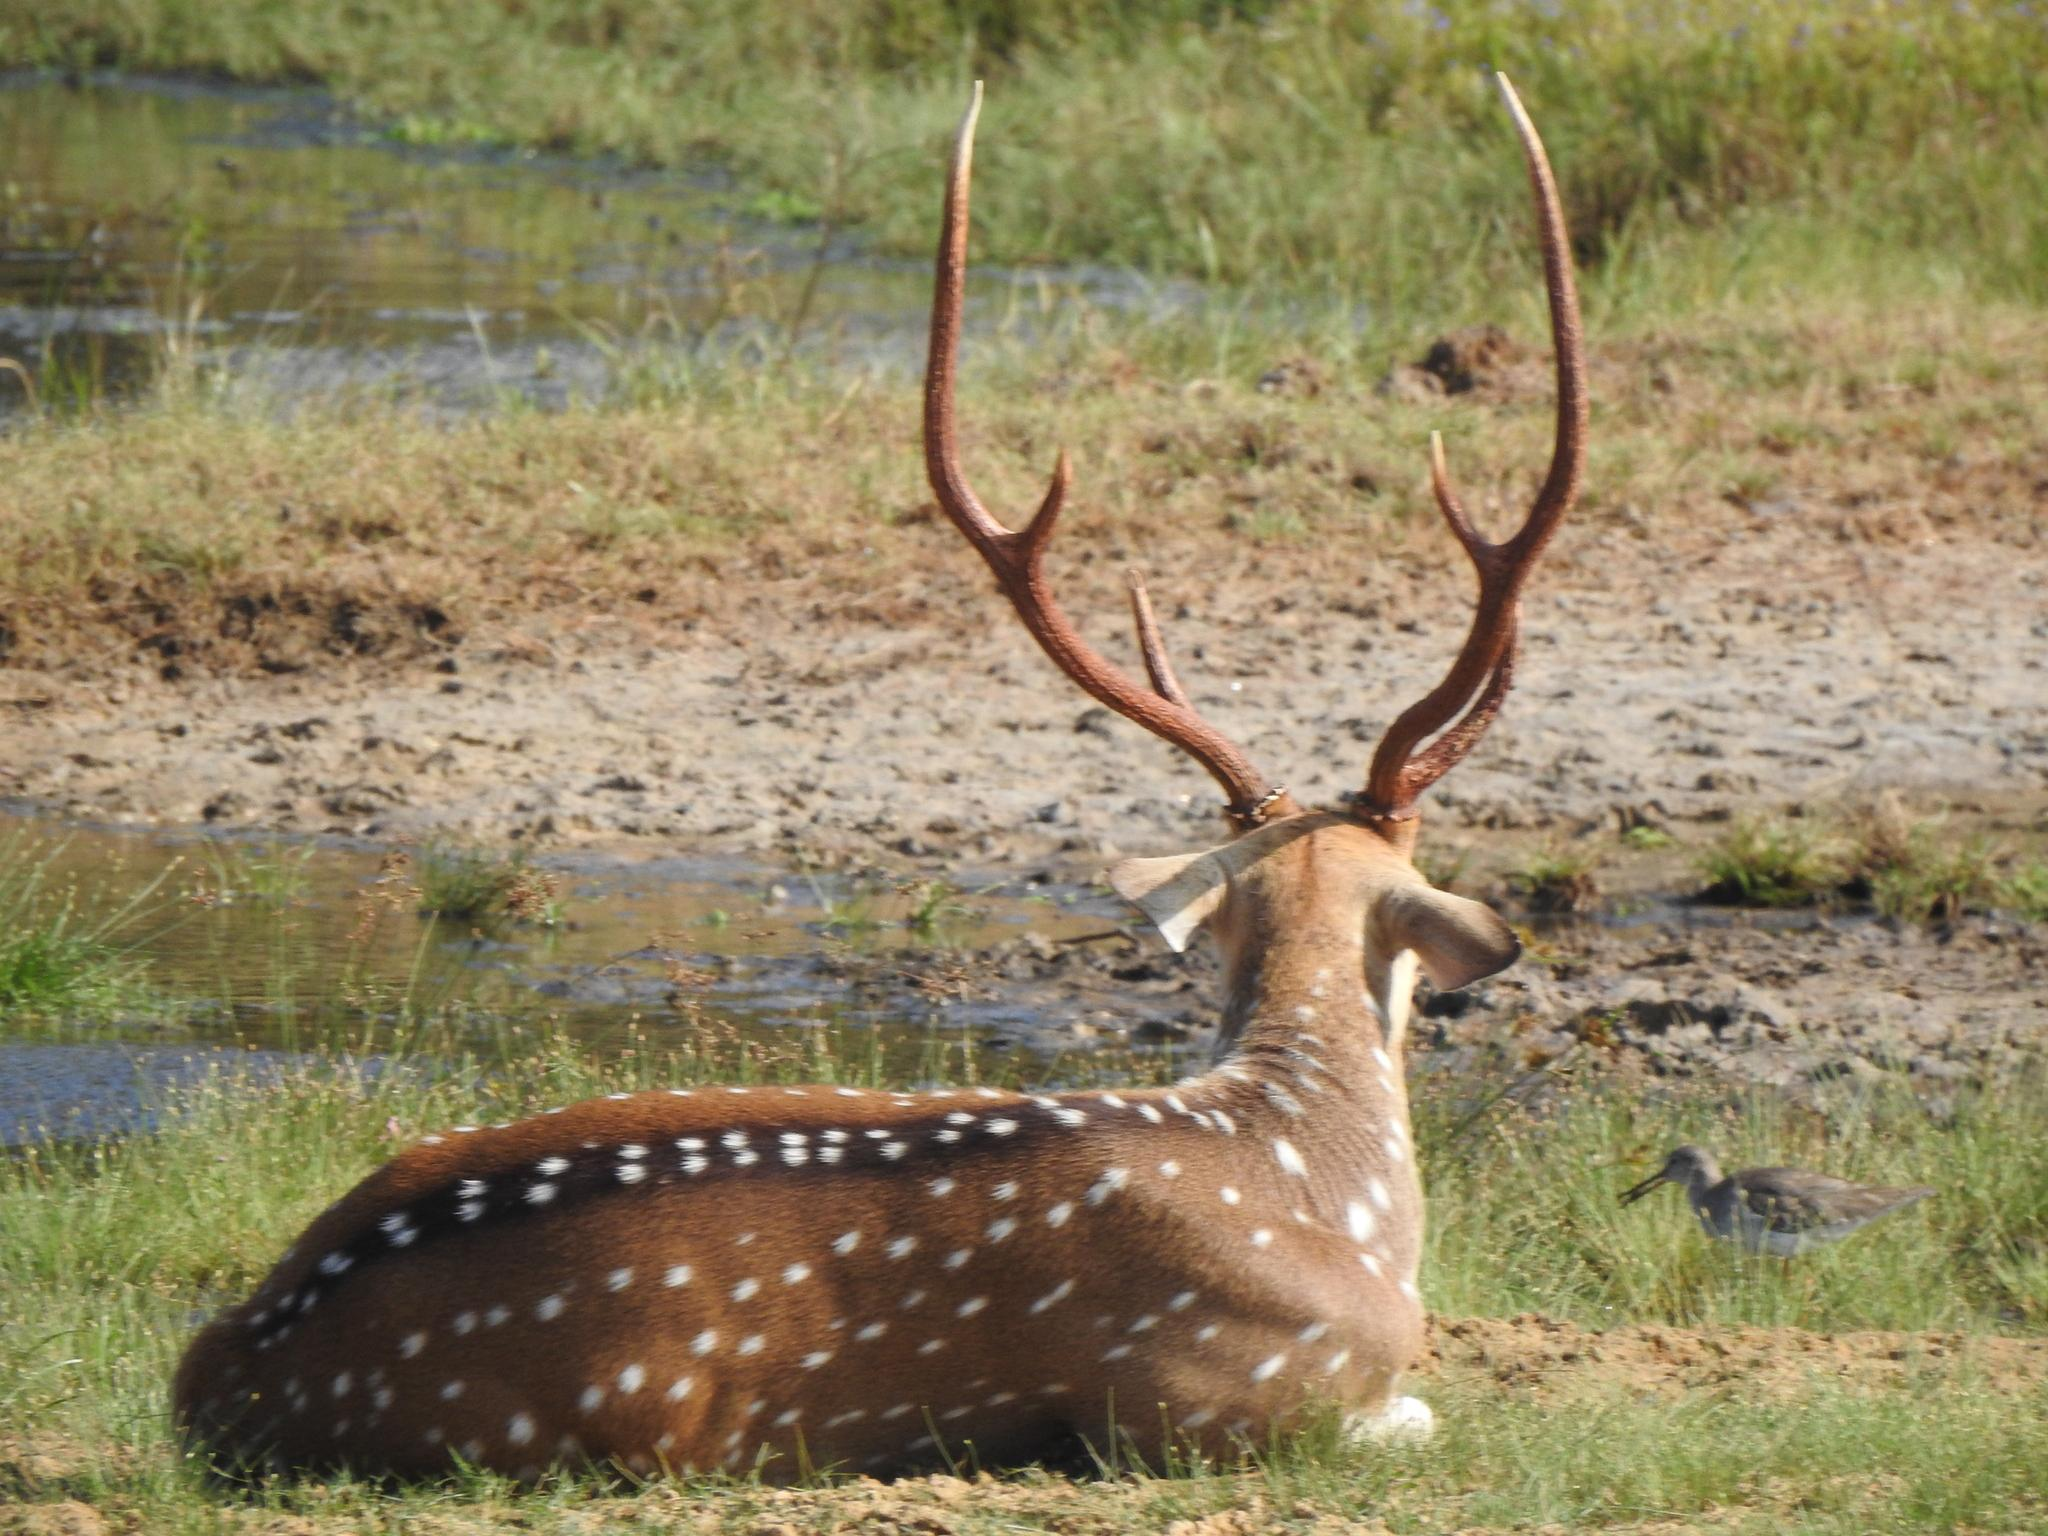Deer: (176, 81, 1584, 1471)
